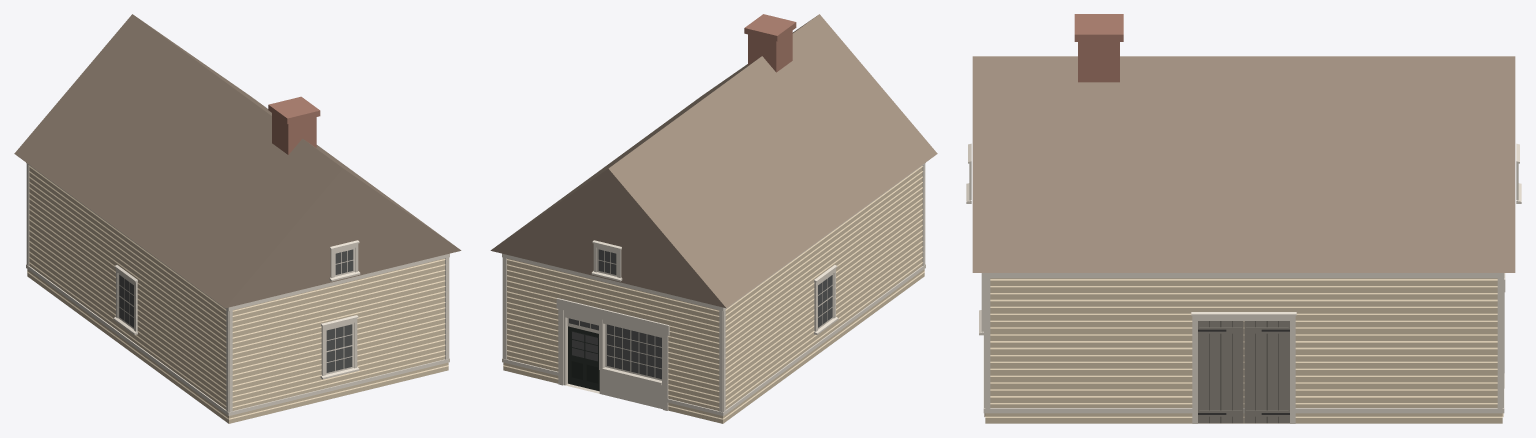
Rendered from recon_1835_core_c2_010__inferred_1835.glb.
3 renders of one model, left to right at view 1: azimuth 30°, elevation 25°; view 2: azimuth 150°, elevation 25°; view 3: azimuth 270°, elevation 25°, orthographic. The views are drawn at different scales.
Parts seen in each view (by area): view 1: recon_1835_core_c2_010__inferred_1835; view 2: recon_1835_core_c2_010__inferred_1835; view 3: recon_1835_core_c2_010__inferred_1835.
Part boxes in pixels (<box>): recon_1835_core_c2_010__inferred_1835: <box>14,14,461,423</box>; recon_1835_core_c2_010__inferred_1835: <box>490,14,937,423</box>; recon_1835_core_c2_010__inferred_1835: <box>966,14,1521,423</box>.
Size of the model in its own units: 7.03 by 7.31 by 11.13.
